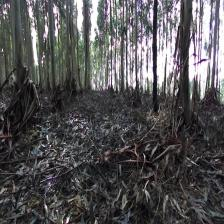trunk: (180, 1, 194, 126), (10, 7, 28, 91), (47, 4, 58, 92), (152, 4, 160, 114)
